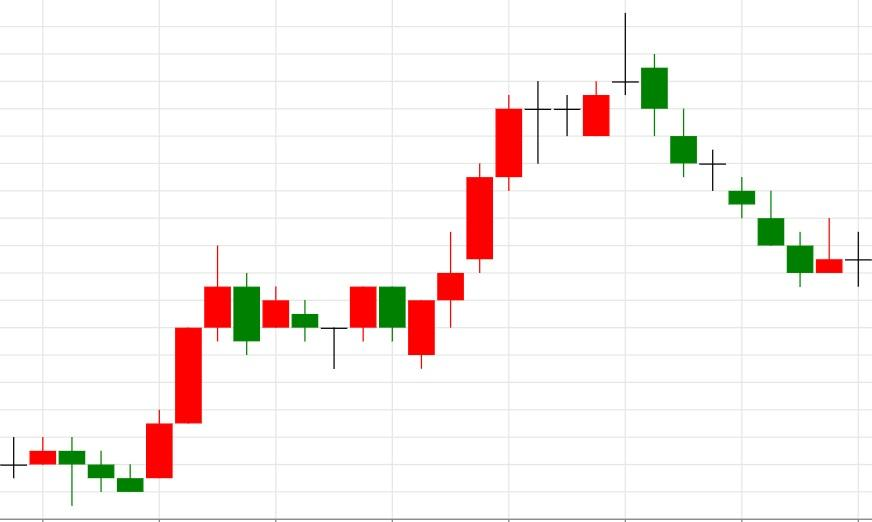three_white_soldiers_rise: (58, 246, 232, 506), (349, 163, 494, 368)
